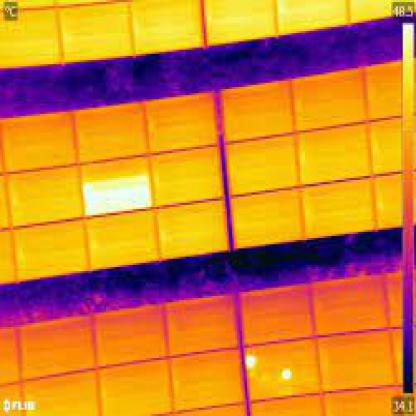Defects: (86, 180, 150, 213), (244, 350, 258, 374), (278, 366, 290, 382)
